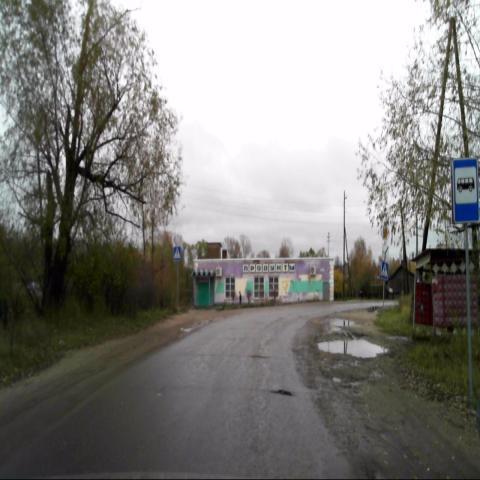2_1: (380, 223, 391, 243)
5_16: (452, 156, 480, 223)
5_19_1: (380, 260, 390, 278), (172, 245, 182, 262)
